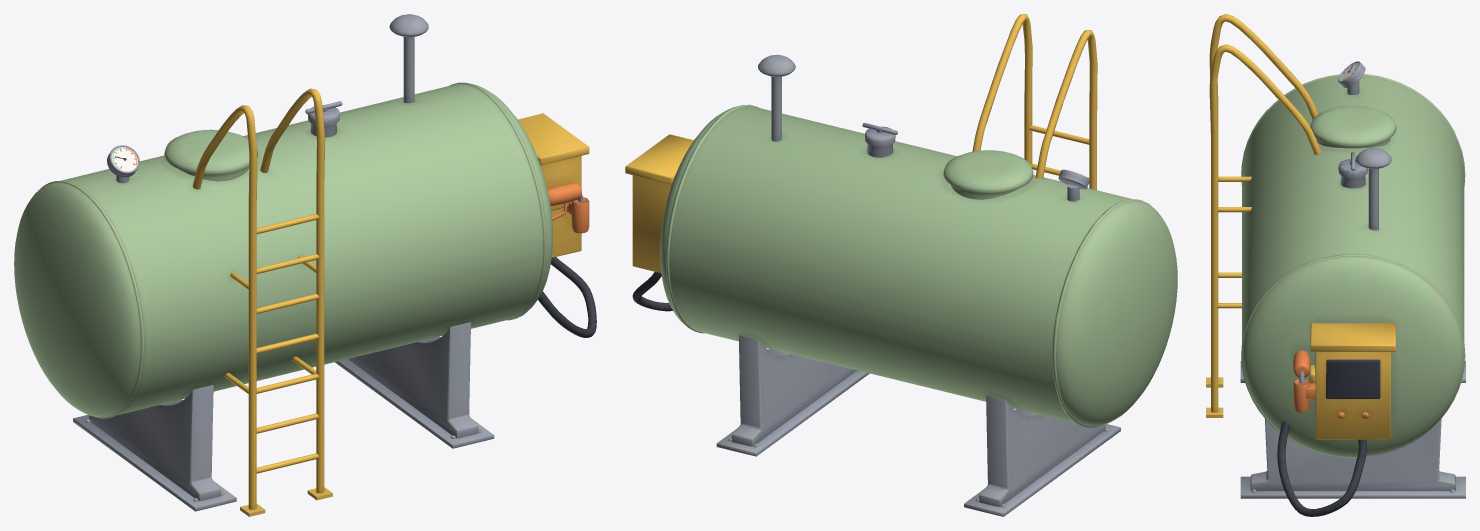
The model's file is fuel-tank.glb.
3 renders of one model, left to right at view 1: azimuth 30°, elevation 25°; view 2: azimuth 150°, elevation 25°; view 3: azimuth 270°, elevation 25°, orthographic. The views are drawn at different scales.
Parts seen in each view (by area): view 1: fuel-tank_body, fuel-tank_level_gauge; view 2: fuel-tank_body; view 3: fuel-tank_body, fuel-tank_level_gauge.
Part boxes in pixels (x1,y1,x2,y2): fuel-tank_body: (14,14,596,516); fuel-tank_level_gauge: (107,145,139,177); fuel-tank_body: (625,14,1177,516); fuel-tank_body: (1206,14,1465,516); fuel-tank_level_gauge: (1338,61,1365,87).
Bounding box in the file's own units: 3.32 × 2.38 × 1.52.
5 materials, 5 textured.
